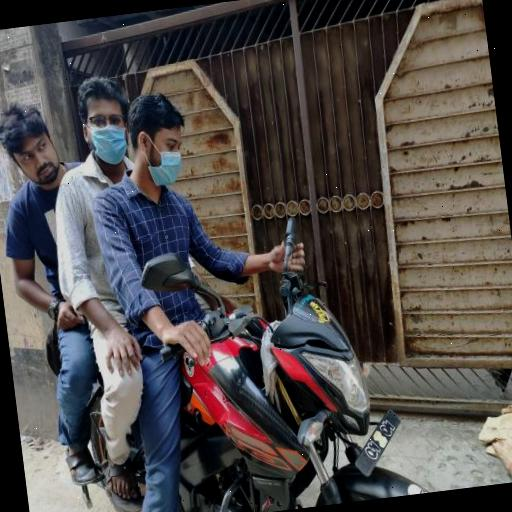no helmet: (112, 76, 214, 216)
triple riding: (0, 35, 463, 512)
